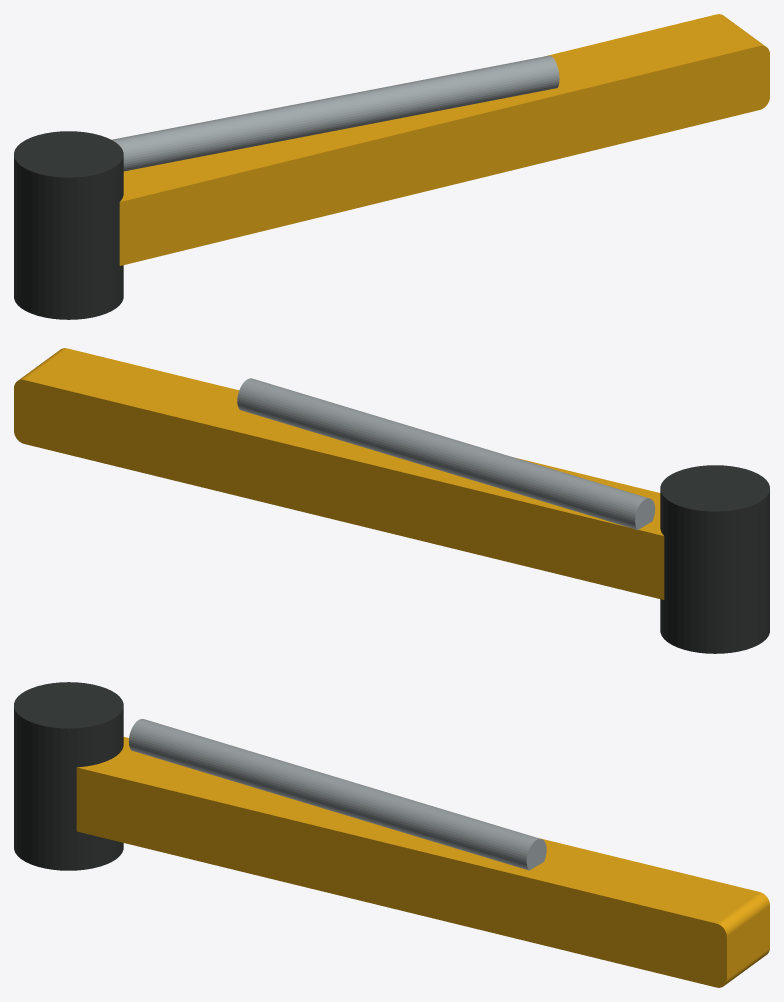
Rendered from arm_upper_link.obj.
The picture shows the model from 3 angles, top to bottom: view 1: azimuth 30°, elevation 25°; view 2: azimuth 150°, elevation 25°; view 3: azimuth 330°, elevation 25°; orthographic projection.
Visible parts, largest first — view 1: beam_1, clevis_0, cylinder_2; view 2: beam_1, clevis_0, cylinder_2; view 3: beam_1, clevis_0, cylinder_2.
Boxes of the visible parts, x1,y1,x2,y2 form: beam_1: [119, 14, 769, 265]; clevis_0: [14, 131, 123, 319]; cylinder_2: [112, 55, 559, 171]; beam_1: [14, 348, 664, 599]; clevis_0: [660, 465, 769, 653]; cylinder_2: [237, 378, 655, 530]; beam_1: [76, 737, 769, 987]; clevis_0: [14, 682, 123, 870]; cylinder_2: [128, 719, 546, 870].
Bounding box in the file's own units: 1.07 × 0.2 × 0.1396.
